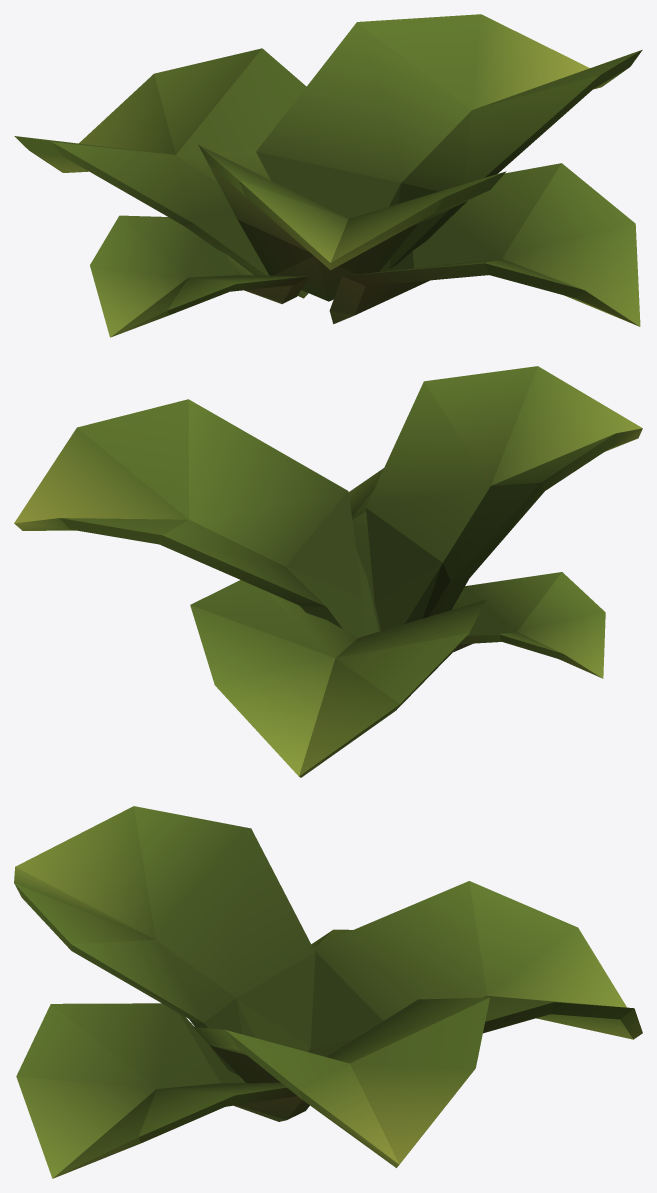
Rendered from Mixed_Plant_04.fbx.
3 views of the same model, one above another, from view 1: azimuth 30°, elevation 25°; view 2: azimuth 150°, elevation 25°; view 3: azimuth 270°, elevation 25° (orthographic). The views are drawn at different scales.
Parts seen in each view (by area): view 1: Plant_04.001; view 2: Plant_04.001; view 3: Plant_04.001.
Part boxes in pixels (left/top/right/bottom): Plant_04.001: left=14, top=14, right=642, bottom=337; Plant_04.001: left=14, top=366, right=642, bottom=777; Plant_04.001: left=14, top=806, right=642, bottom=1178.
Bounding box in the file's own units: 230 × 93.88 × 228.
